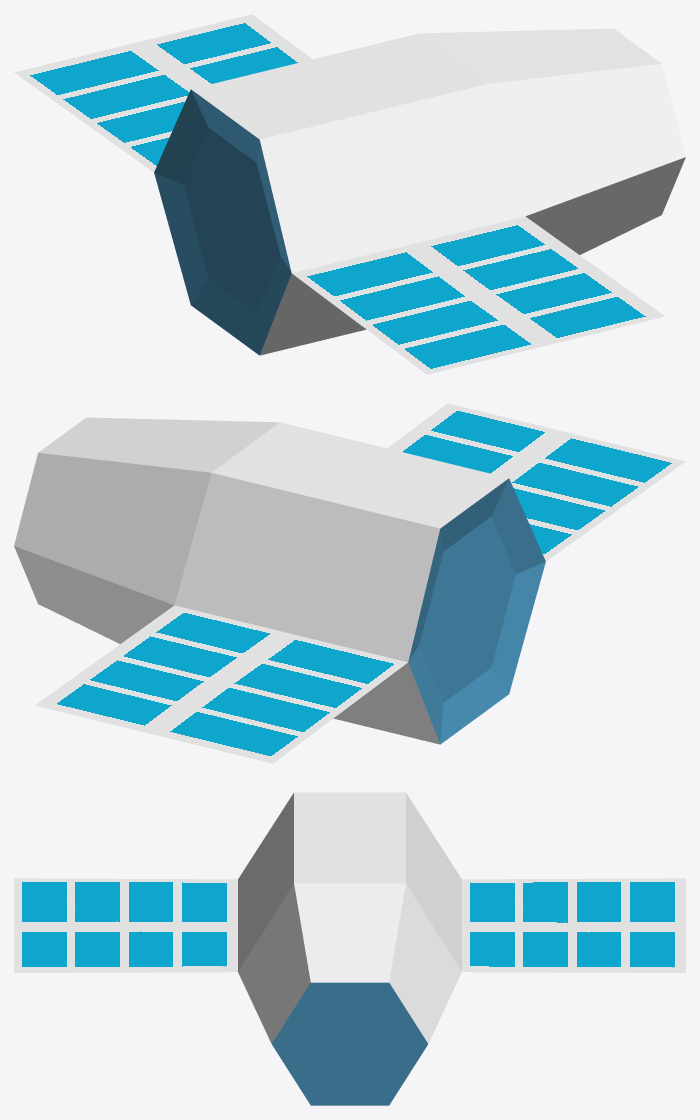
Rendered from satellite-3.glb.
The picture shows the model from 3 angles, top to bottom: view 1: azimuth 30°, elevation 25°; view 2: azimuth 150°, elevation 25°; view 3: azimuth 270°, elevation 25°; orthographic projection. The views are drawn at different scales.
Visible parts, largest first — view 1: Cylinder; view 2: Cylinder; view 3: Cylinder.
Boxes of the visible parts, x1,y1,x2,y2 form: Cylinder: (14, 14, 685, 374); Cylinder: (14, 403, 685, 763); Cylinder: (14, 792, 685, 1105).
Bounding box in the file's own units: 3.5 × 1.73 × 6.
1 material, 1 textured.
